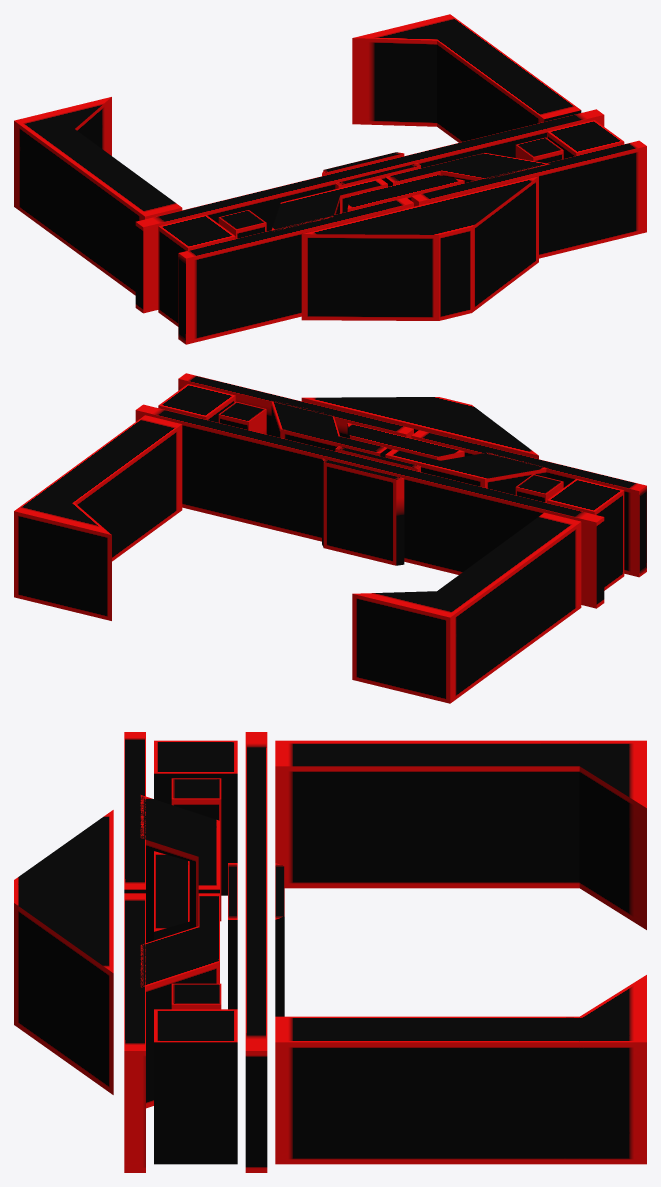
File: recognizerwbase_wtf.obj
The picture shows the model from 3 angles, top to bottom: view 1: azimuth 30°, elevation 25°; view 2: azimuth 150°, elevation 25°; view 3: azimuth 270°, elevation 25°; orthographic projection. The views are drawn at different scales.
Visible parts, largest first — view 1: group17, group1, group6, group12, group13, group9, group11, group4, group16, group2, group7, group5 (+3 smaller); view 2: group9, group6, group1, group8, group17, group12, group16, group11, group13, group4, group2, group7 (+4 smaller); view 3: group1, group6, group17, group2, group9, group4, group13, group16, group11, group12, group7, group5 (+3 smaller).
Boxes of the visible parts, x1=… form: group17: x1=301, y1=176, x2=538, y2=320; group1: x1=352, y1=14, x2=581, y2=142; group6: x1=14, y1=97, x2=182, y2=295; group12: x1=178, y1=197, x2=413, y2=344; group13: x1=411, y1=140, x2=646, y2=258; group9: x1=135, y1=109, x2=604, y2=313; group11: x1=158, y1=215, x2=235, y2=326; group4: x1=385, y1=153, x2=549, y2=186; group16: x1=271, y1=178, x2=387, y2=231; group2: x1=547, y1=120, x2=624, y2=158; group7: x1=347, y1=175, x2=464, y2=211; group5: x1=218, y1=210, x2=266, y2=238; group9: x1=135, y1=404, x2=604, y2=608; group6: x1=352, y1=512, x2=581, y2=703; group1: x1=14, y1=415, x2=182, y2=620; group8: x1=322, y1=458, x2=404, y2=565; group17: x1=301, y1=397, x2=538, y2=459; group12: x1=411, y1=430, x2=646, y2=577; group16: x1=385, y1=449, x2=546, y2=495; group11: x1=547, y1=478, x2=624, y2=590; group13: x1=178, y1=373, x2=413, y2=438; group4: x1=271, y1=401, x2=387, y2=457; group2: x1=158, y1=384, x2=235, y2=422; group7: x1=347, y1=423, x2=463, y2=456; group1: x1=275, y1=975, x2=646, y2=1164; group6: x1=275, y1=740, x2=646, y2=929; group17: x1=14, y1=810, x2=113, y2=1094; group2: x1=154, y1=1009, x2=237, y2=1164; group9: x1=245, y1=732, x2=267, y2=1172; group4: x1=140, y1=893, x2=219, y2=1108; group13: x1=124, y1=893, x2=145, y2=1172; group16: x1=140, y1=795, x2=219, y2=942; group11: x1=154, y1=740, x2=237, y2=895; group12: x1=124, y1=732, x2=145, y2=893; group7: x1=154, y1=851, x2=189, y2=940; group5: x1=171, y1=778, x2=221, y2=921.
Bounding box in the file's own units: 660 × 123 × 554.
